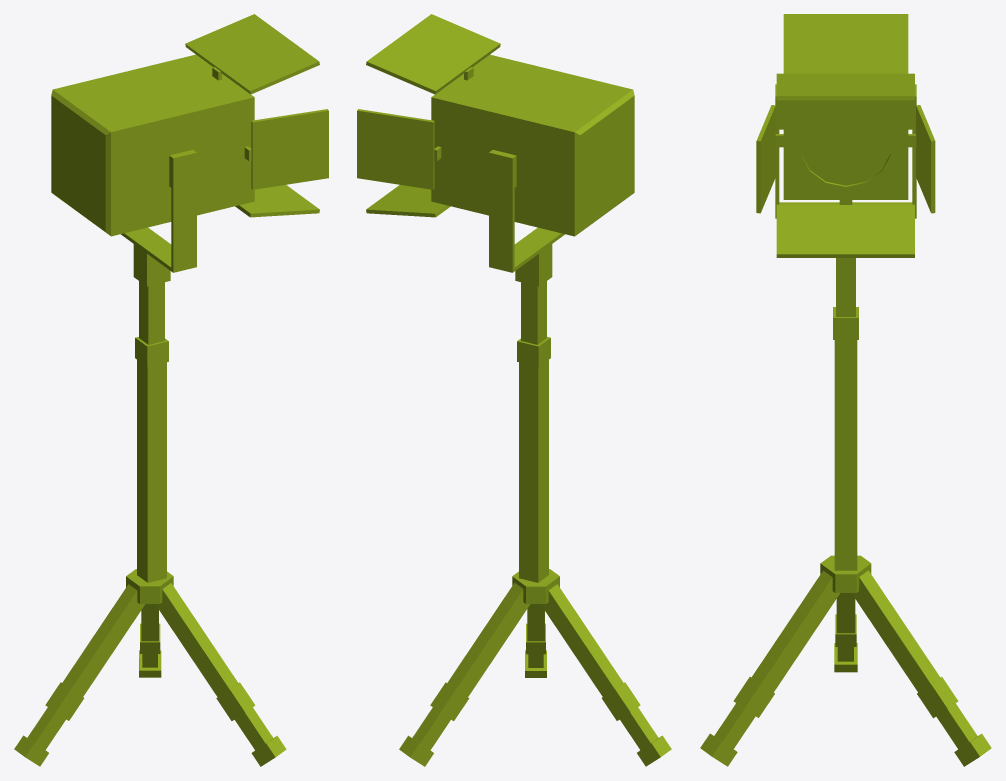
File: studio_standlight.obj
3 renders of one model, left to right at view 1: azimuth 30°, elevation 25°; view 2: azimuth 150°, elevation 25°; view 3: azimuth 270°, elevation 25°, orthographic. The views are drawn at different scales.
Visible parts, largest first — view 1: studio_light001; view 2: studio_light001; view 3: studio_light001.
Boxes of the visible parts, box(x1,y1,x2,y2) form: studio_light001: box(14, 14, 328, 766); studio_light001: box(357, 14, 671, 766); studio_light001: box(700, 14, 991, 766).
Size of the model in its own units: 0.8883 by 2.1 by 0.7851.
